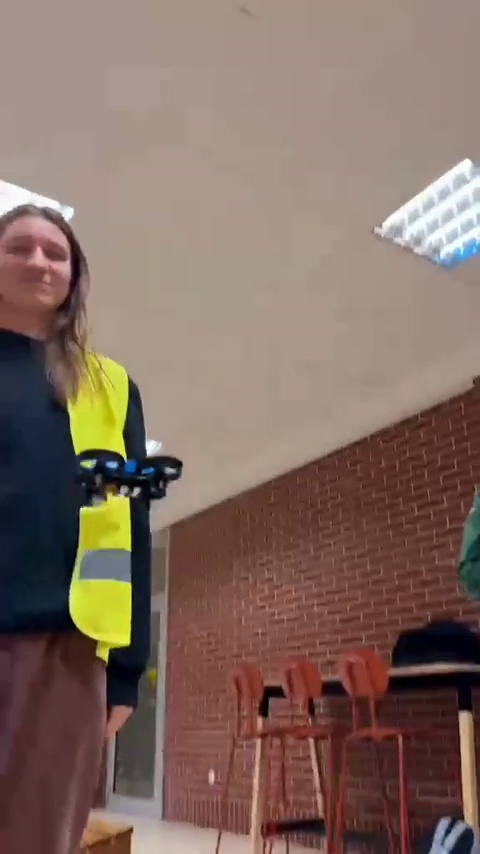drone: (71, 451, 195, 518)
vest: (0, 207, 156, 854)
